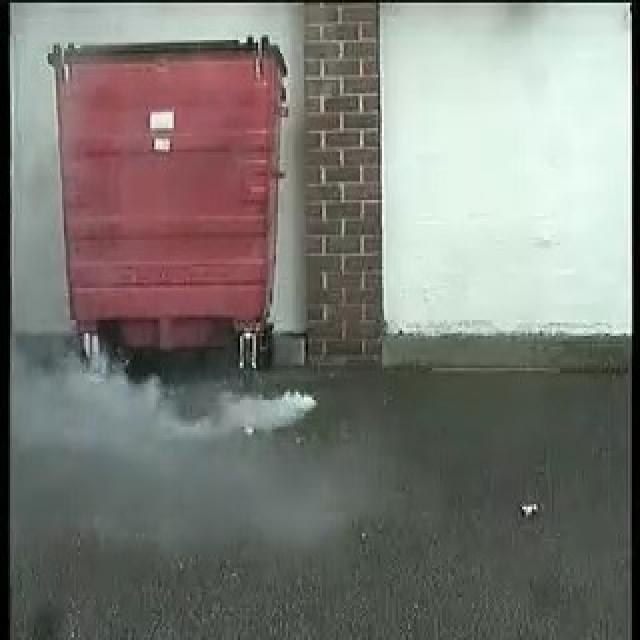smoke: (76, 353, 316, 439)
